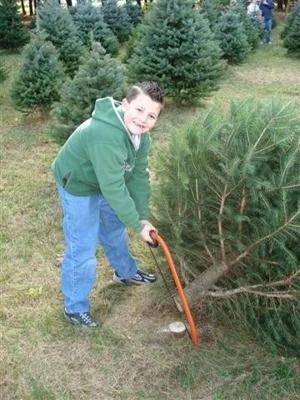person: (50, 79, 165, 331)
